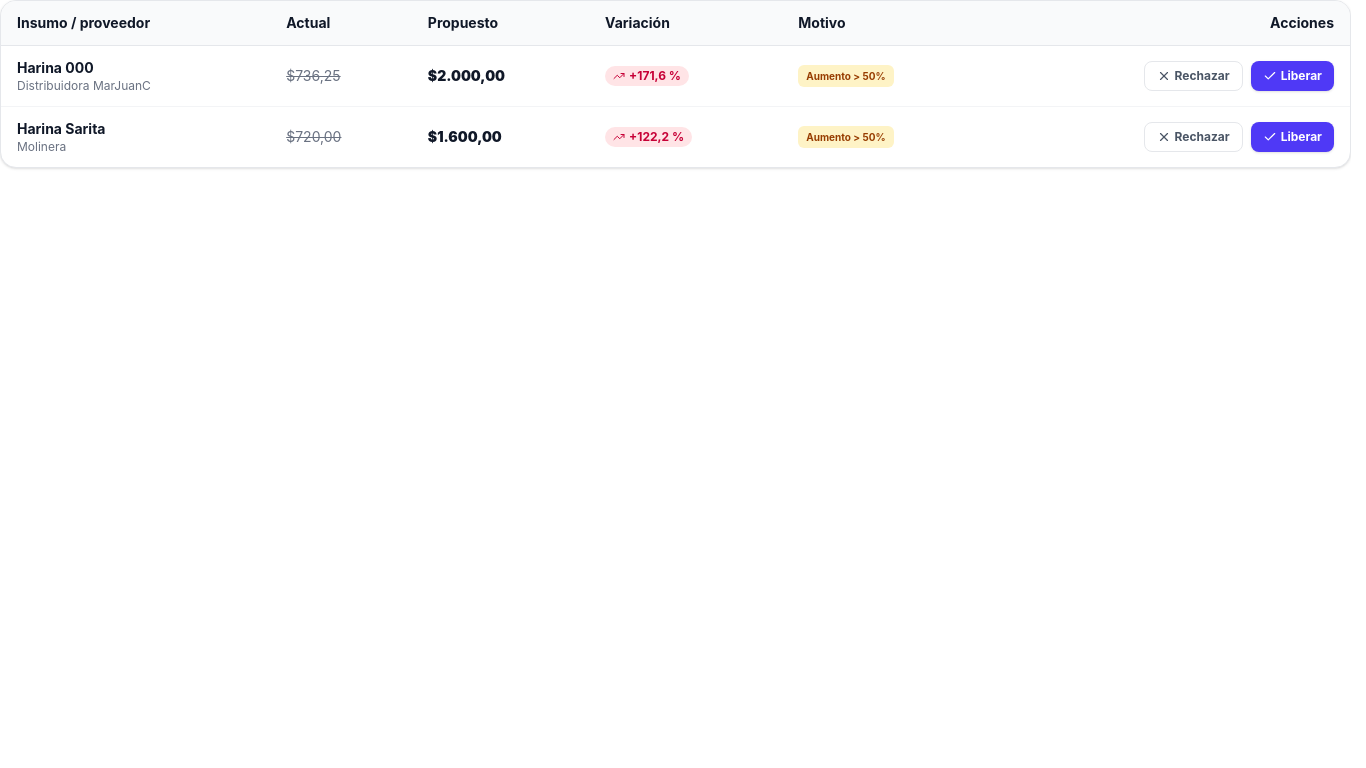
Test: QuarantineList › muestra diálogo aclaratorio al liberar una presentación que no es predeterminada
Click the button "Liberar" in the row of "Harina Sarita".
click(1292, 137)  # box [1251, 122, 1334, 152]
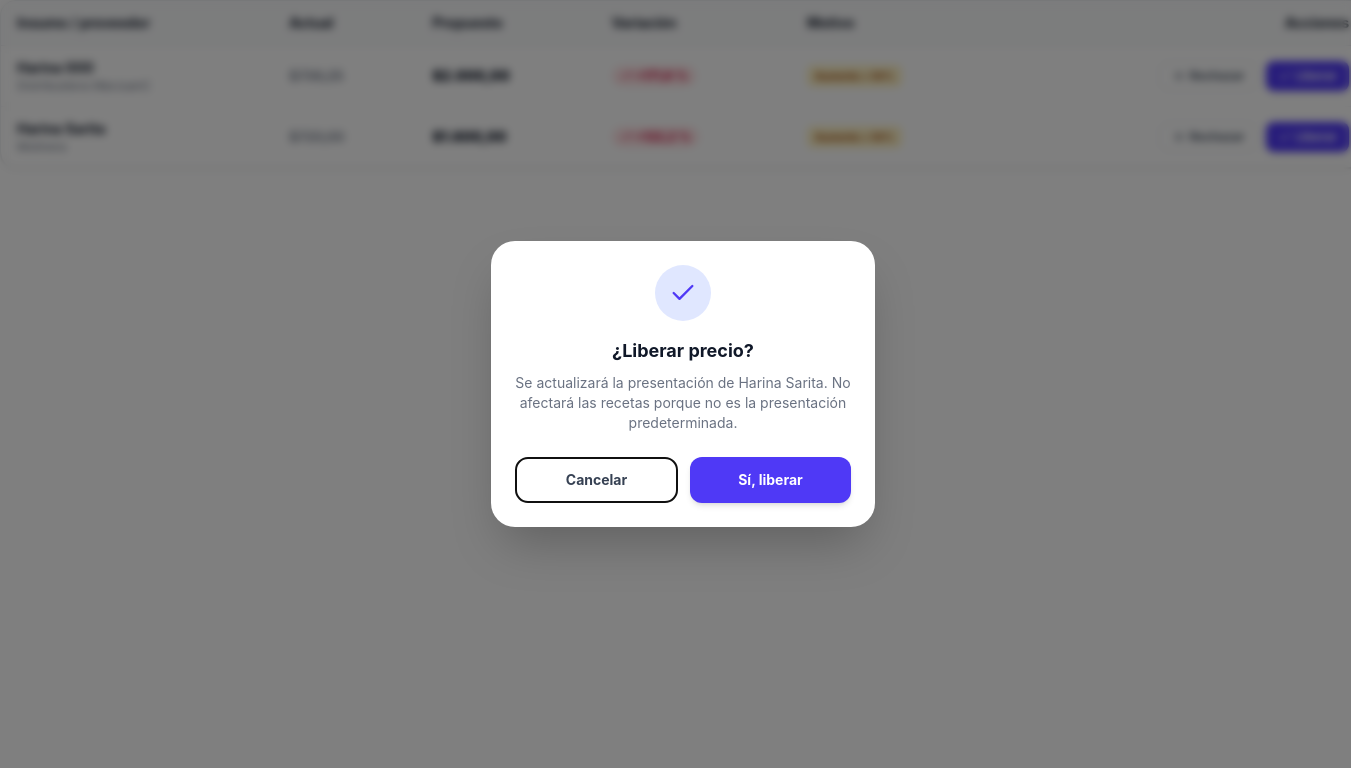
Now the text "no afectará las recetas porque no es la presentación predeterminada" is shown, box [515, 374, 851, 431]
